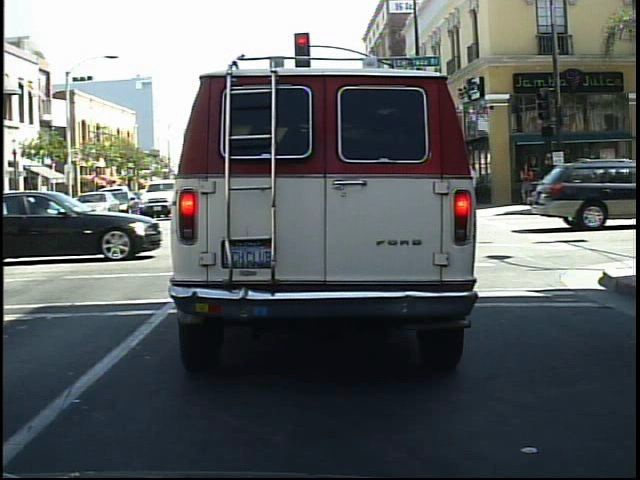person: (537, 154, 561, 209), (541, 147, 562, 209), (515, 157, 539, 208), (556, 157, 576, 208)
